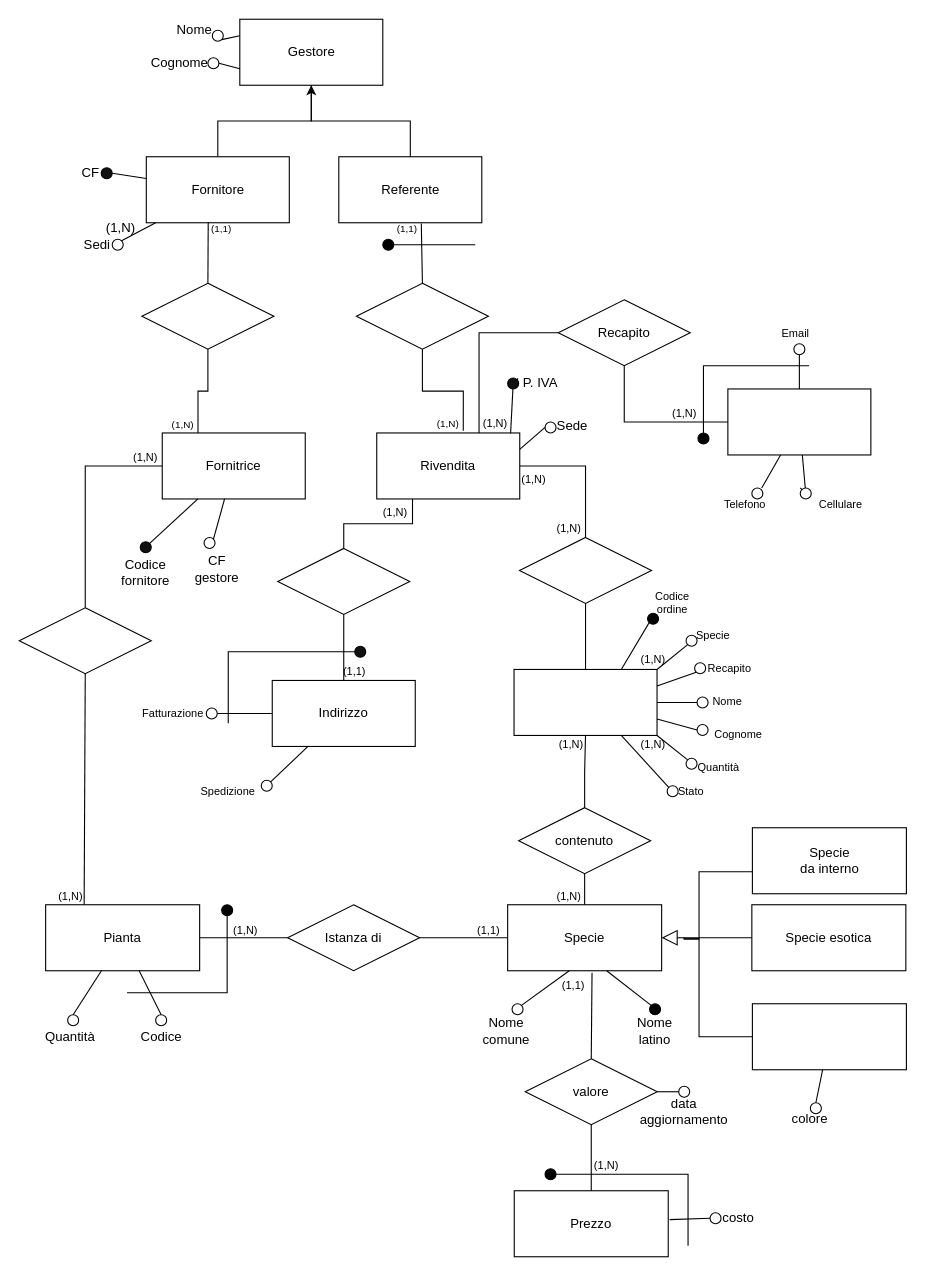
Image size: 926x1276. Some labels were removed from this diagram. The shapes that lost their labels are listed below. From the top down, each one's centre as x and y in pixels, then its label:
point 207,315: amministra
point 421,315: riferisce per
point 799,421: Contatto
point 343,580: locazione
point 585,569: effettua
point 84,640: rifornisce
point 585,701: ordine
point 828,1036: Specie fiorita
